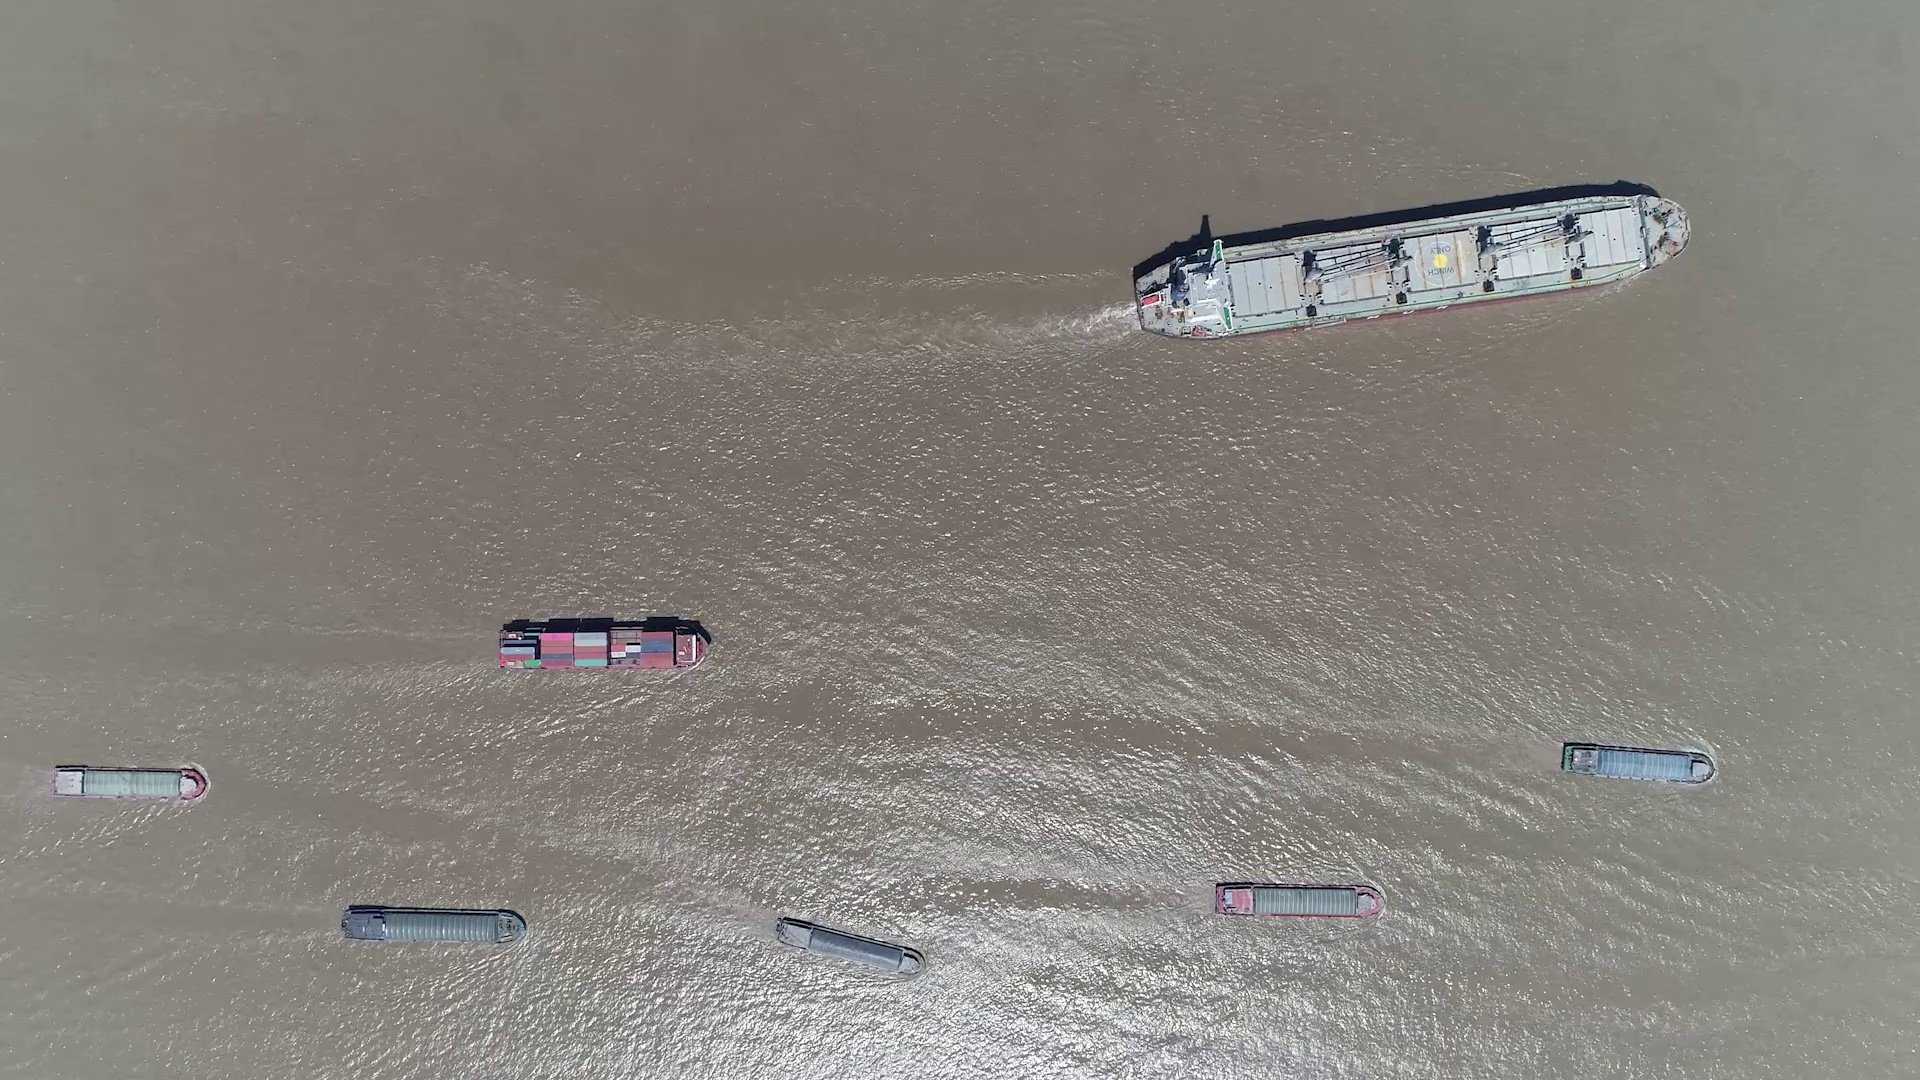ship: (1127, 193, 1689, 338), (497, 622, 709, 671), (774, 919, 922, 975), (342, 905, 525, 943), (1215, 881, 1385, 919), (1563, 741, 1716, 783), (50, 765, 206, 802)
